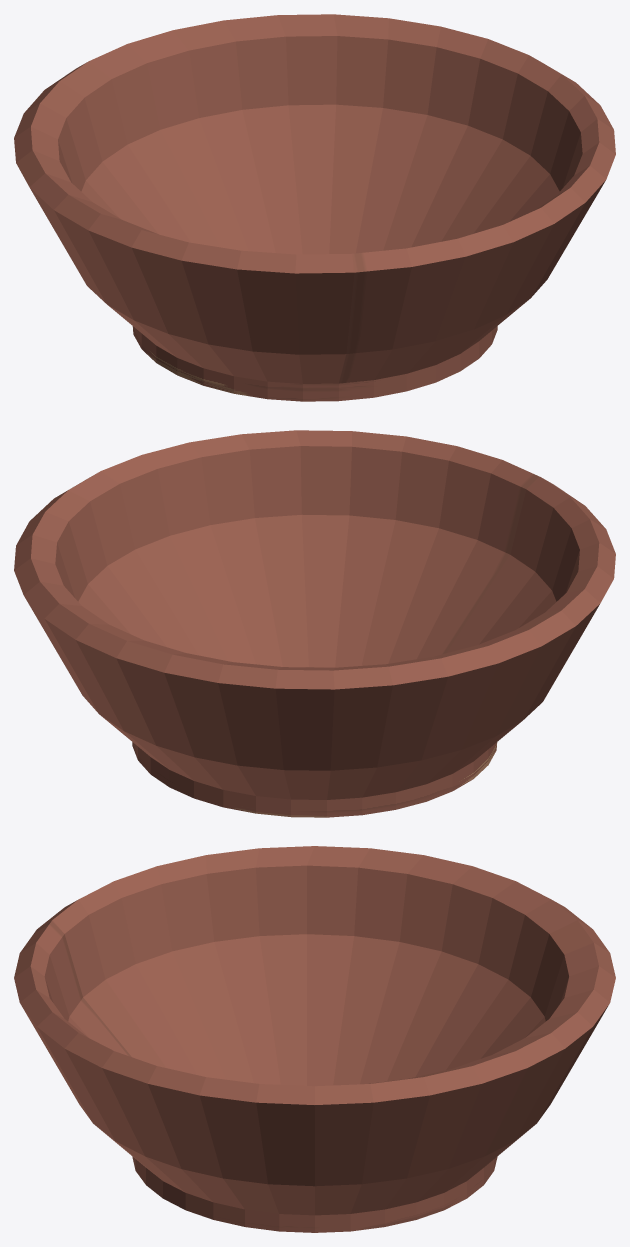
The model's file is Storage_Bowl.glb.
3 views of the same model, one above another, from view 1: azimuth 30°, elevation 25°; view 2: azimuth 150°, elevation 25°; view 3: azimuth 270°, elevation 25° (orthographic).
Visible parts, largest first — view 1: storage_bowl.001; view 2: storage_bowl.001; view 3: storage_bowl.001.
Boxes of the visible parts, bbox=[...] form: storage_bowl.001: bbox=[14, 14, 615, 401]; storage_bowl.001: bbox=[14, 430, 615, 817]; storage_bowl.001: bbox=[14, 846, 615, 1232].
Bounding box in the file's own units: 1.61 × 0.5587 × 1.61.
Materials: 1 (1 with a texture image).
